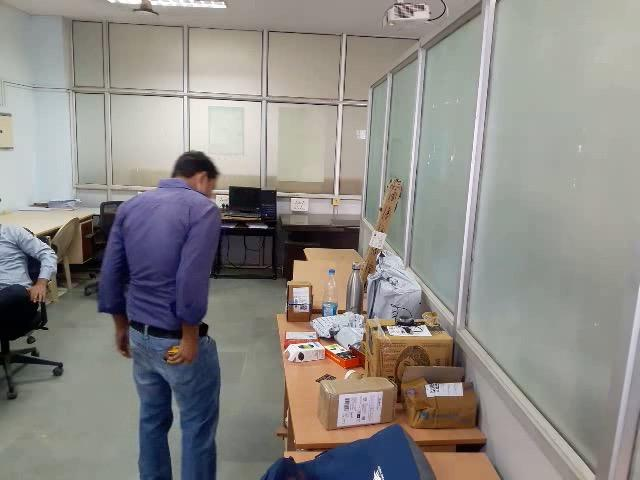shoplifting: (96, 279, 320, 410)
